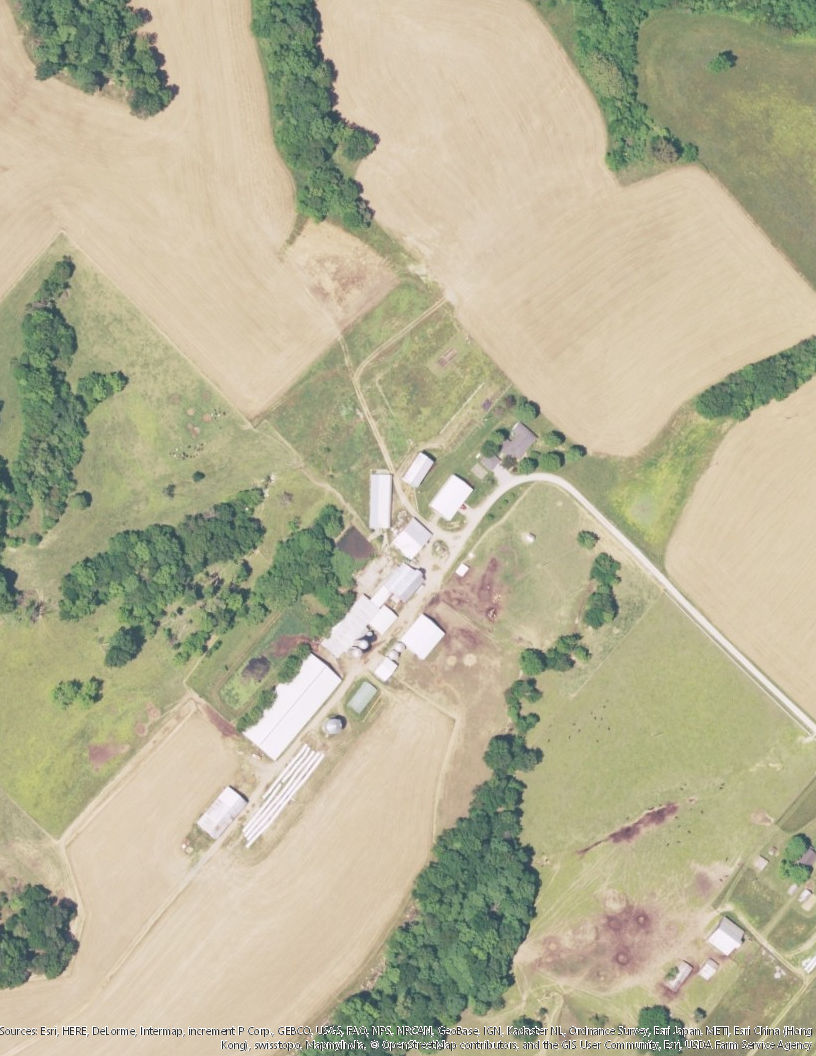cafo: (239, 650, 346, 759), (321, 562, 436, 660), (191, 782, 252, 839), (429, 471, 477, 522), (365, 470, 400, 535), (402, 615, 448, 659), (389, 520, 434, 557), (404, 451, 437, 491)
